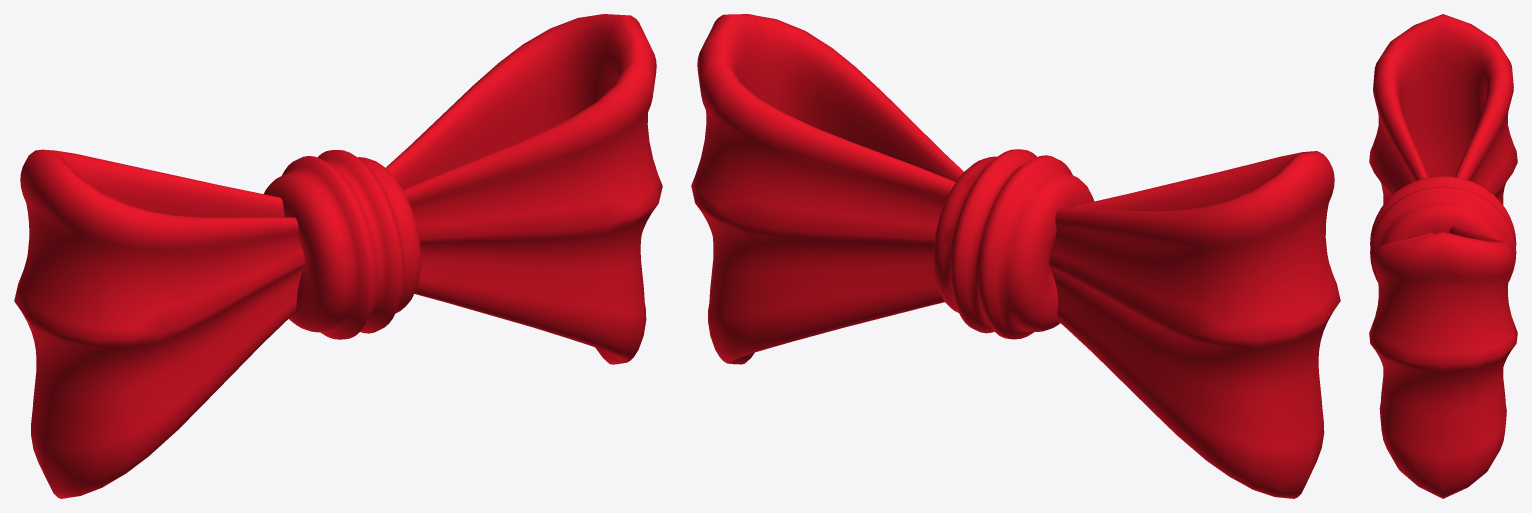
Rendered from bow.glb.
3 views of the same model, side by side, from view 1: azimuth 30°, elevation 25°; view 2: azimuth 150°, elevation 25°; view 3: azimuth 270°, elevation 25° (orthographic). The views are drawn at different scales.
Parts seen in each view (by area): view 1: BezierCircle, BezierCircle.001; view 2: BezierCircle, BezierCircle.001; view 3: BezierCircle, BezierCircle.001.
Part boxes in pixels (bbox=[...]): BezierCircle: bbox=[14, 14, 662, 498]; BezierCircle.001: bbox=[264, 150, 421, 339]; BezierCircle: bbox=[691, 14, 1340, 498]; BezierCircle.001: bbox=[933, 149, 1094, 339]; BezierCircle: bbox=[1369, 14, 1517, 498]; BezierCircle.001: bbox=[1370, 176, 1516, 281].
Bounding box in the file's own units: 0.15 × 0.08 × 0.0399.
